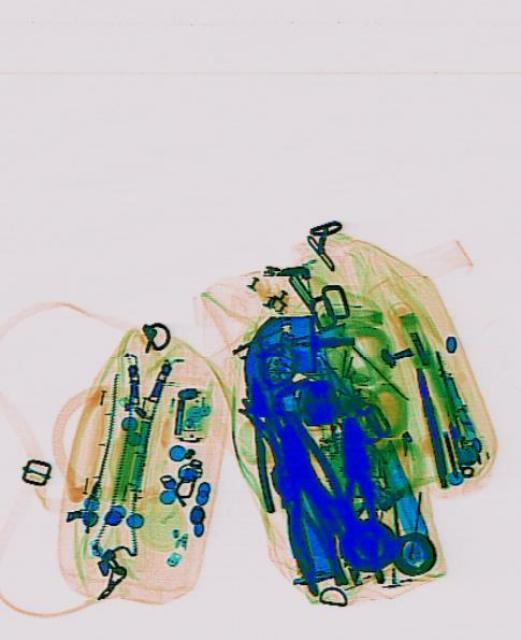Pliers: (257, 452, 350, 600), (236, 374, 299, 512), (333, 416, 384, 586)
